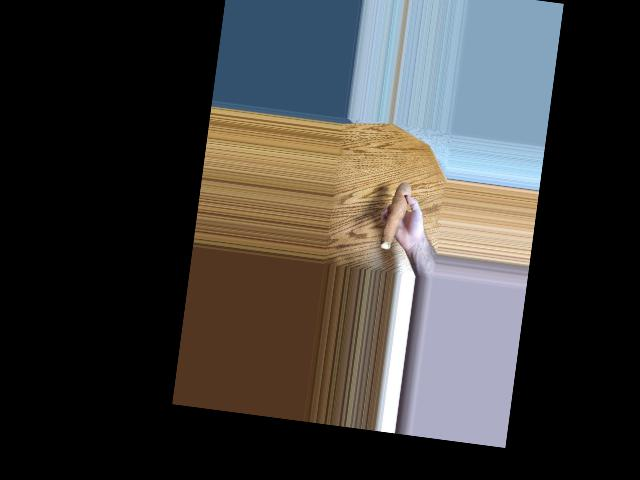sweet_potato: (380, 177, 408, 253)
